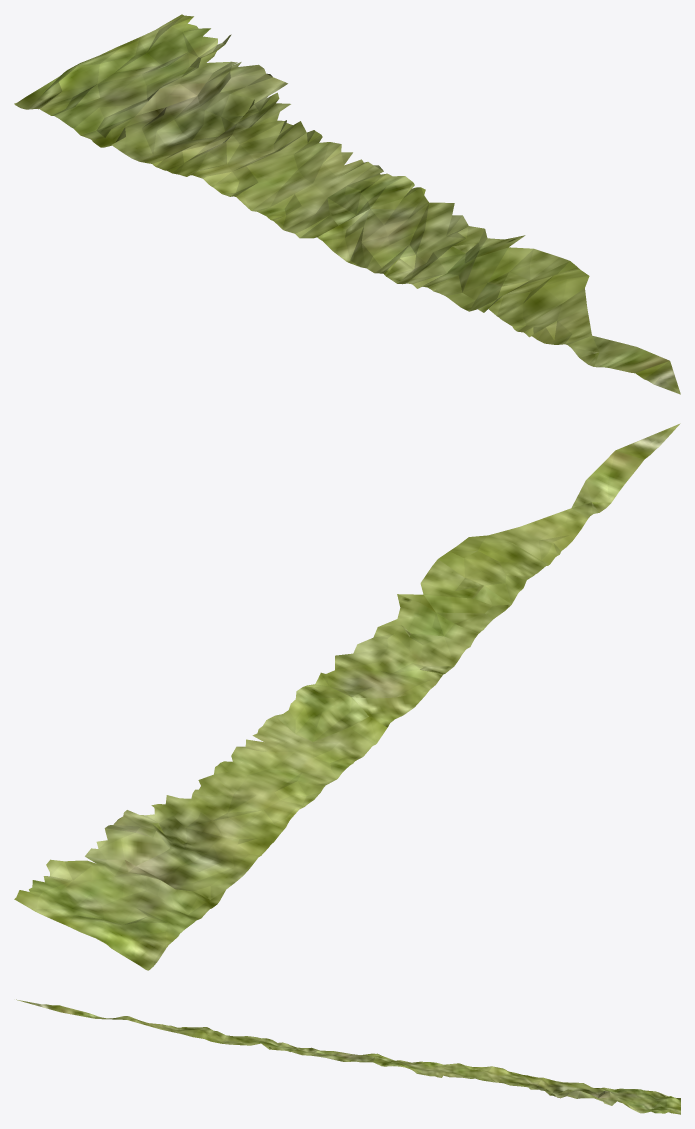
3 renders of one model, top to bottom at view 1: azimuth 30°, elevation 25°; view 2: azimuth 150°, elevation 25°; view 3: azimuth 270°, elevation 25°, orthographic. The views are drawn at different scales.
Bounding box in the file's own units: 0.6185 × 0.6804 × 4.16.
1 material, 1 textured.
